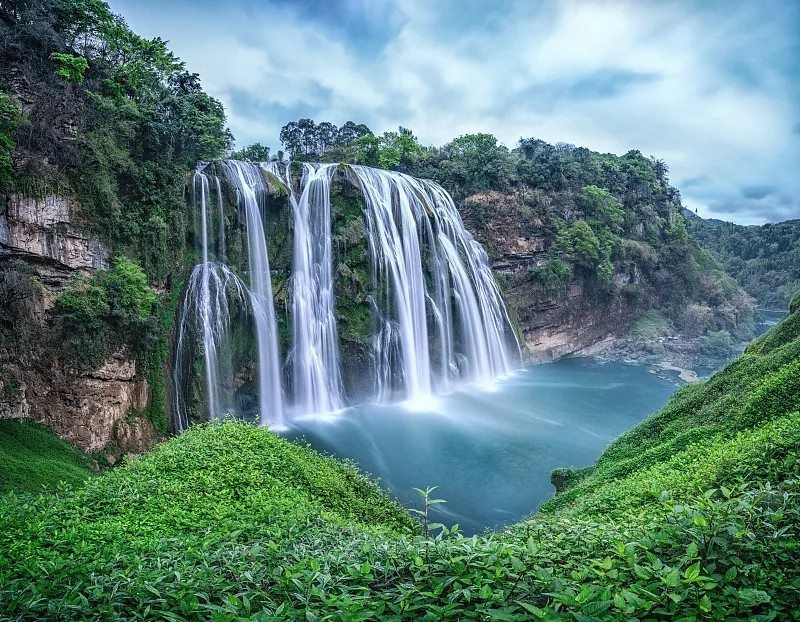Huangguoshu: (176, 161, 527, 429)
